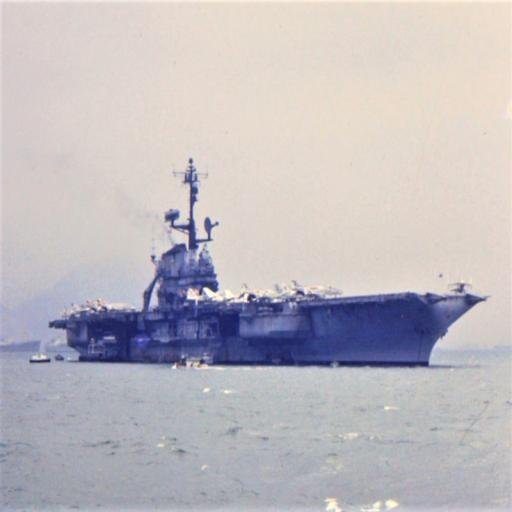Portanaves: (39, 151, 496, 377)
